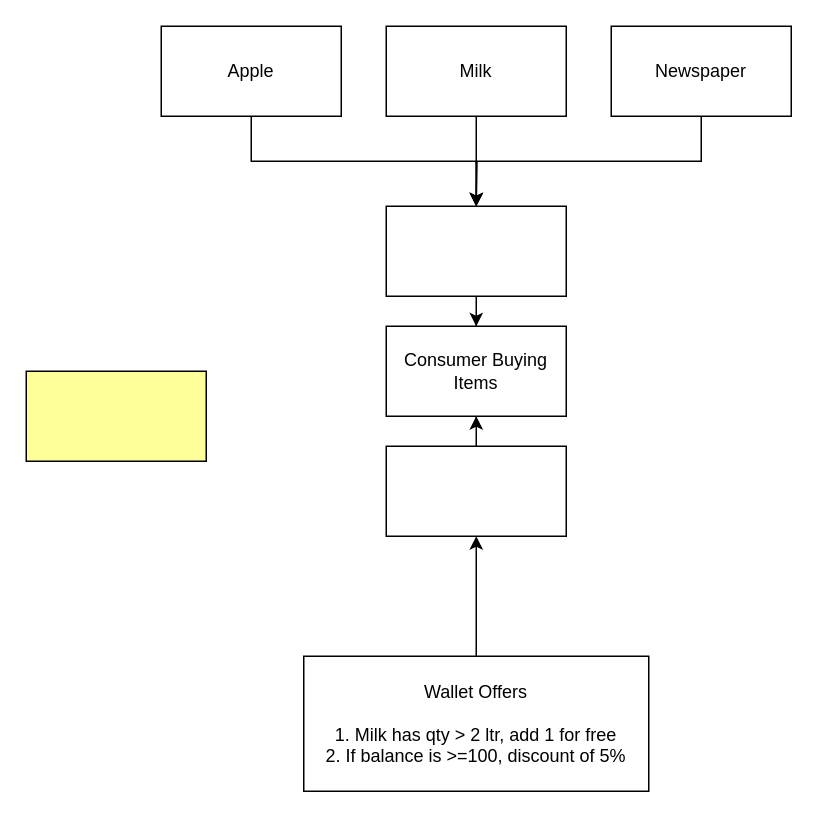
Image size: 818x818. Some labels were removed from this diagram. Here are the shapes that lost their labels. From the top down, the centre of each, then its label:
At point 475,250: "Item getCost getQty".
At point 115,415: "Shopping Cart Capstone Project".
At point 475,490: "Wallet".
